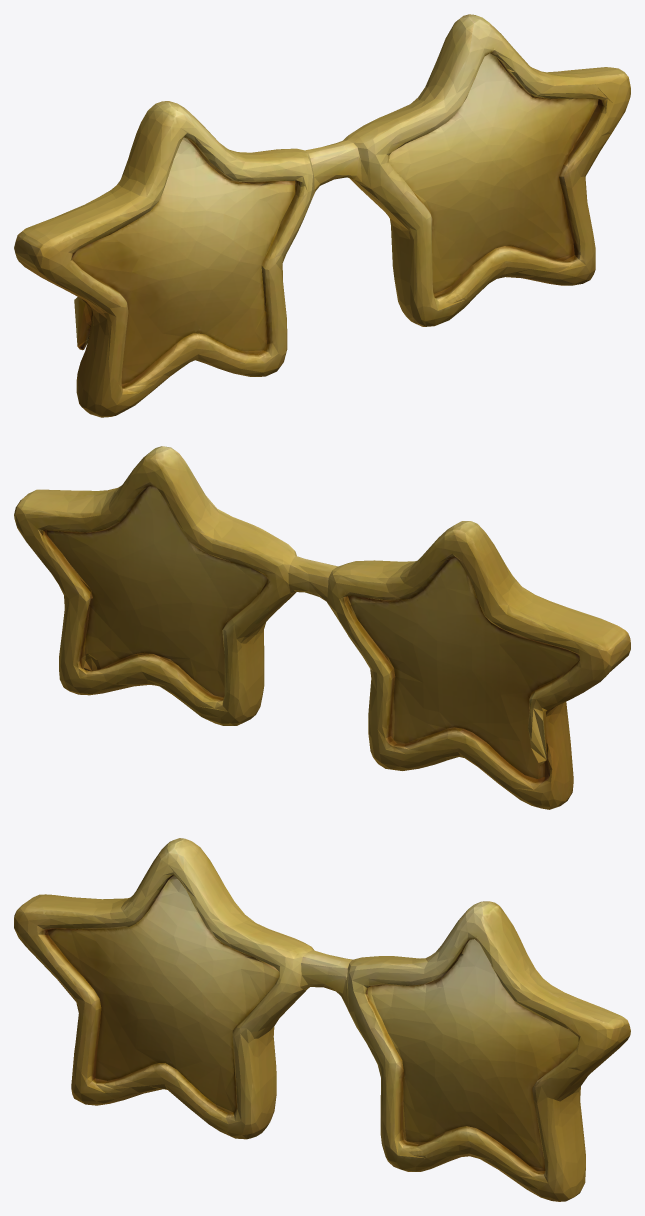
The model's file is gold_star_shades.glb.
3 renders of one model, top to bottom at view 1: azimuth 30°, elevation 25°; view 2: azimuth 150°, elevation 25°; view 3: azimuth 330°, elevation 25°, orthographic. The views are drawn at different scales.
Visible parts, largest first — view 1: geometry_0.006; view 2: geometry_0.006; view 3: geometry_0.006.
Part boxes in pixels (x1,y1,x2,y2): geometry_0.006: (14,14,630,417); geometry_0.006: (14,446,630,809); geometry_0.006: (14,838,630,1201).
Size of the model in its own units: 0.5 by 0.2241 by 0.0614.
Materials: 1 (1 with a texture image).
